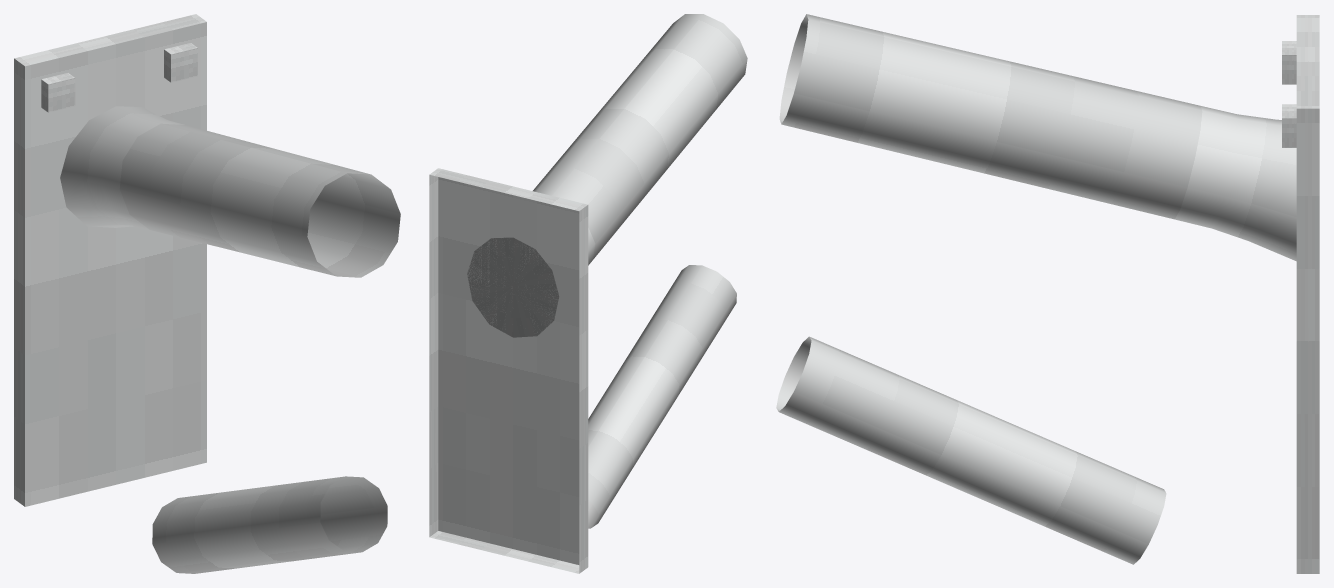
File: luminairearm_truss15ftstraightdouble_c10_wall.obj
3 views of the same model, side by side, from view 1: azimuth 30°, elevation 25°; view 2: azimuth 150°, elevation 25°; view 3: azimuth 270°, elevation 25° (orthographic). The views are drawn at different scales.
Visible parts, largest first — view 1: luminairearm_truss15ftstraightdouble_c10_wall; view 2: luminairearm_truss15ftstraightdouble_c10_wall; view 3: luminairearm_truss15ftstraightdouble_c10_wall.
Boxes of the visible parts, bbox=[...] form: luminairearm_truss15ftstraightdouble_c10_wall: bbox=[14, 14, 400, 573]; luminairearm_truss15ftstraightdouble_c10_wall: bbox=[429, 14, 747, 573]; luminairearm_truss15ftstraightdouble_c10_wall: bbox=[776, 14, 1319, 573].
Size of the model in its own units: 0.4222 by 1.14 by 1.03.
